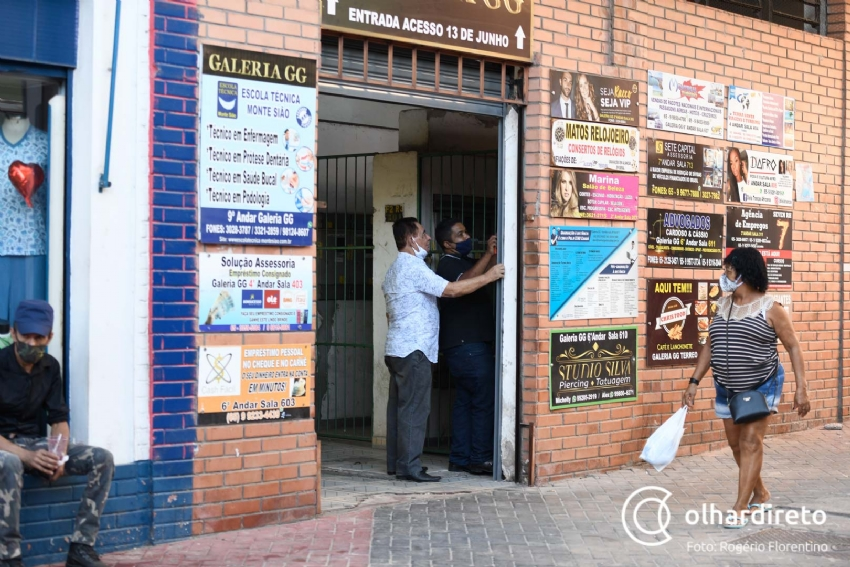mask_weared_incorrect: (404, 223, 434, 261)
